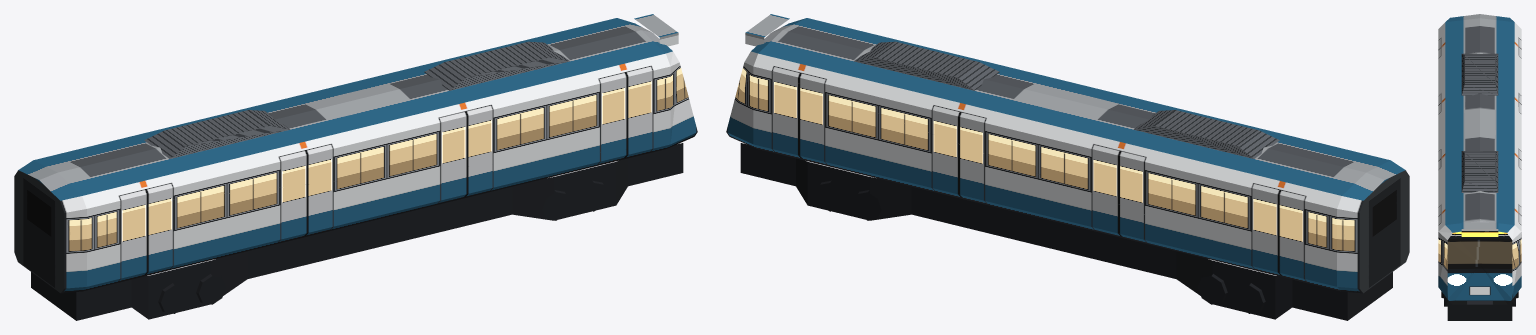
Rendered from paris_mf77__neutral__cab.glb.
3 views of the same model, side by side, from view 1: azimuth 30°, elevation 25°; view 2: azimuth 150°, elevation 25°; view 3: azimuth 270°, elevation 25° (orthographic). The views are drawn at different scales.
Visible parts, largest first — view 1: paris_mf77__neutral__cab; view 2: paris_mf77__neutral__cab; view 3: paris_mf77__neutral__cab.
Part boxes in pixels (left/top/right/bottom): paris_mf77__neutral__cab: left=14, top=14, right=697, bottom=320; paris_mf77__neutral__cab: left=726, top=14, right=1409, bottom=320; paris_mf77__neutral__cab: left=1438, top=14, right=1521, bottom=320.
Bounding box in the file's own units: 15.49 × 3.49 × 2.46.
1 material, 1 textured.
